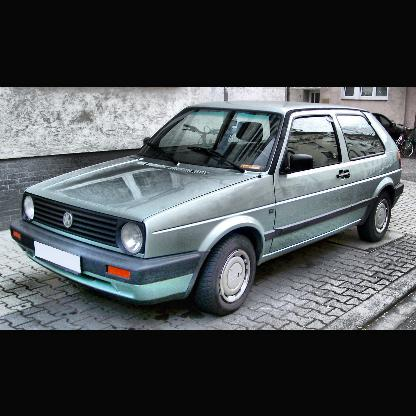Volkswagen Golf Hatchback 1991: (8, 103, 406, 317)
